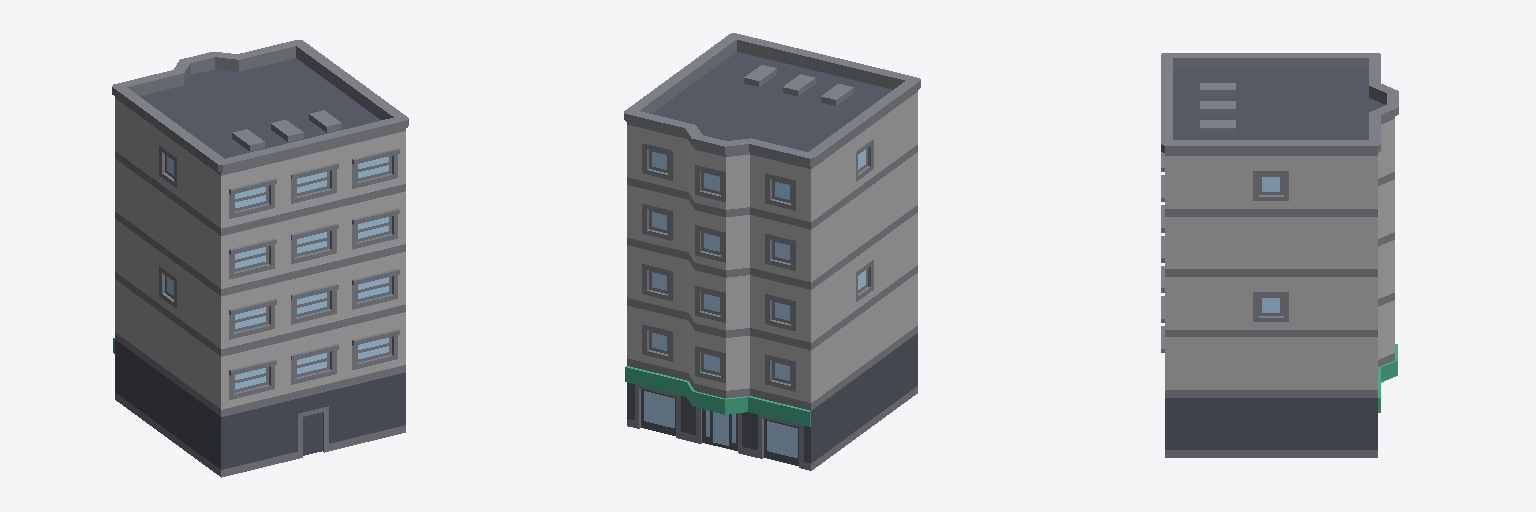
The model's file is city_mall_e.obj.
The picture shows the model from 3 angles: view 1: azimuth 30°, elevation 25°; view 2: azimuth 150°, elevation 25°; view 3: azimuth 270°, elevation 25°; orthographic projection.
Parts seen in each view (by area): view 1: mergedBlocks; view 2: mergedBlocks; view 3: mergedBlocks.
Part boxes in pixels (x1,y1,x2,y2): mergedBlocks: (112,40,408,477); mergedBlocks: (624,33,920,470); mergedBlocks: (1161,53,1398,457).
Size of the model in its own units: 0.7936 by 1.25 by 0.8576.